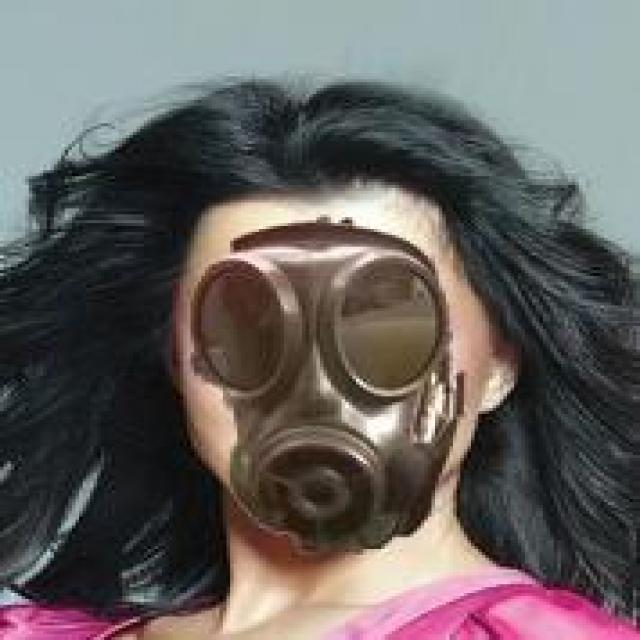mask: (119, 88, 561, 540)
